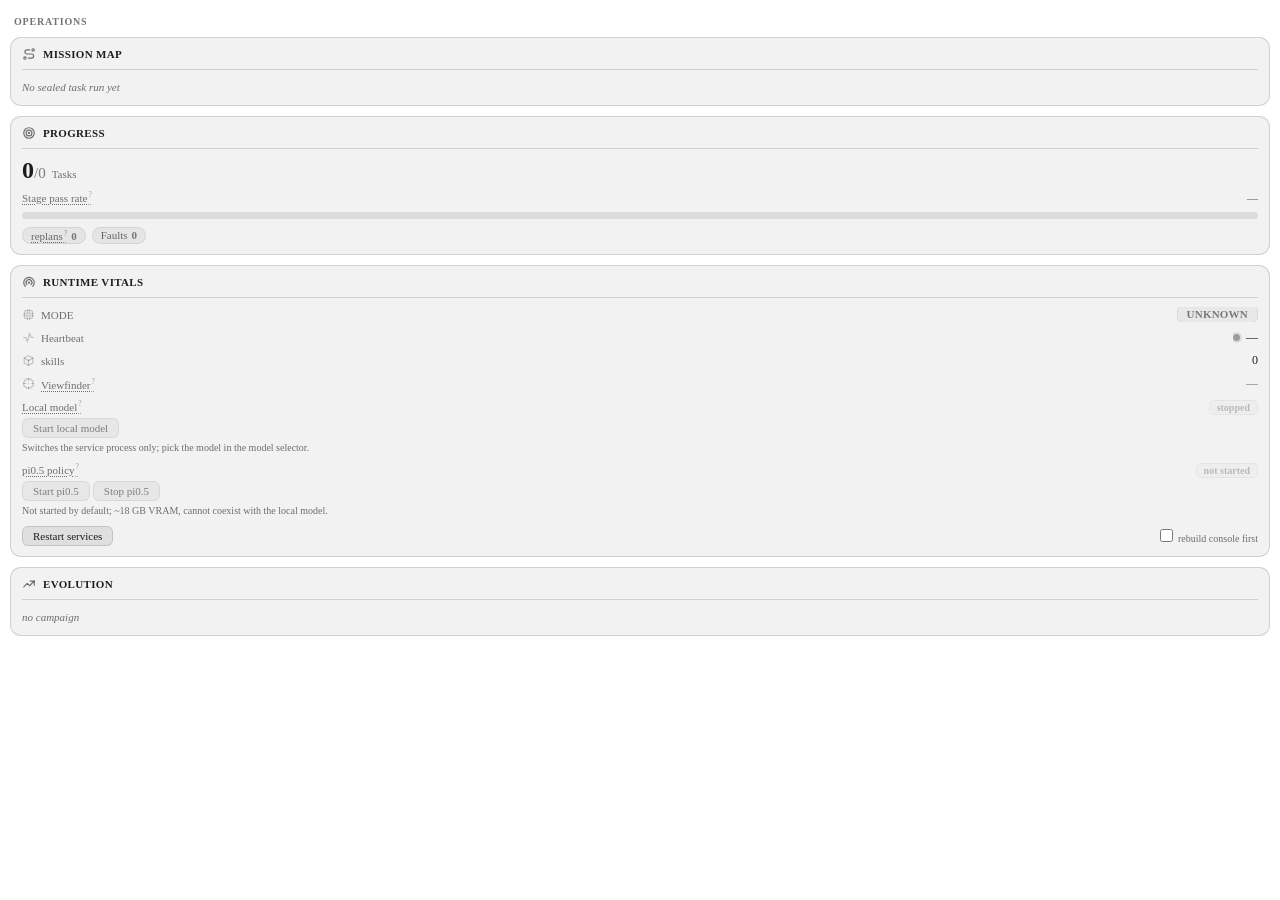
Test: OperatorRail smoke › restart needs two clicks in the widget and passes the build flag
The image size is (1280, 900).
Click the button "Restart services" at [68, 536], box [22, 526, 113, 546]
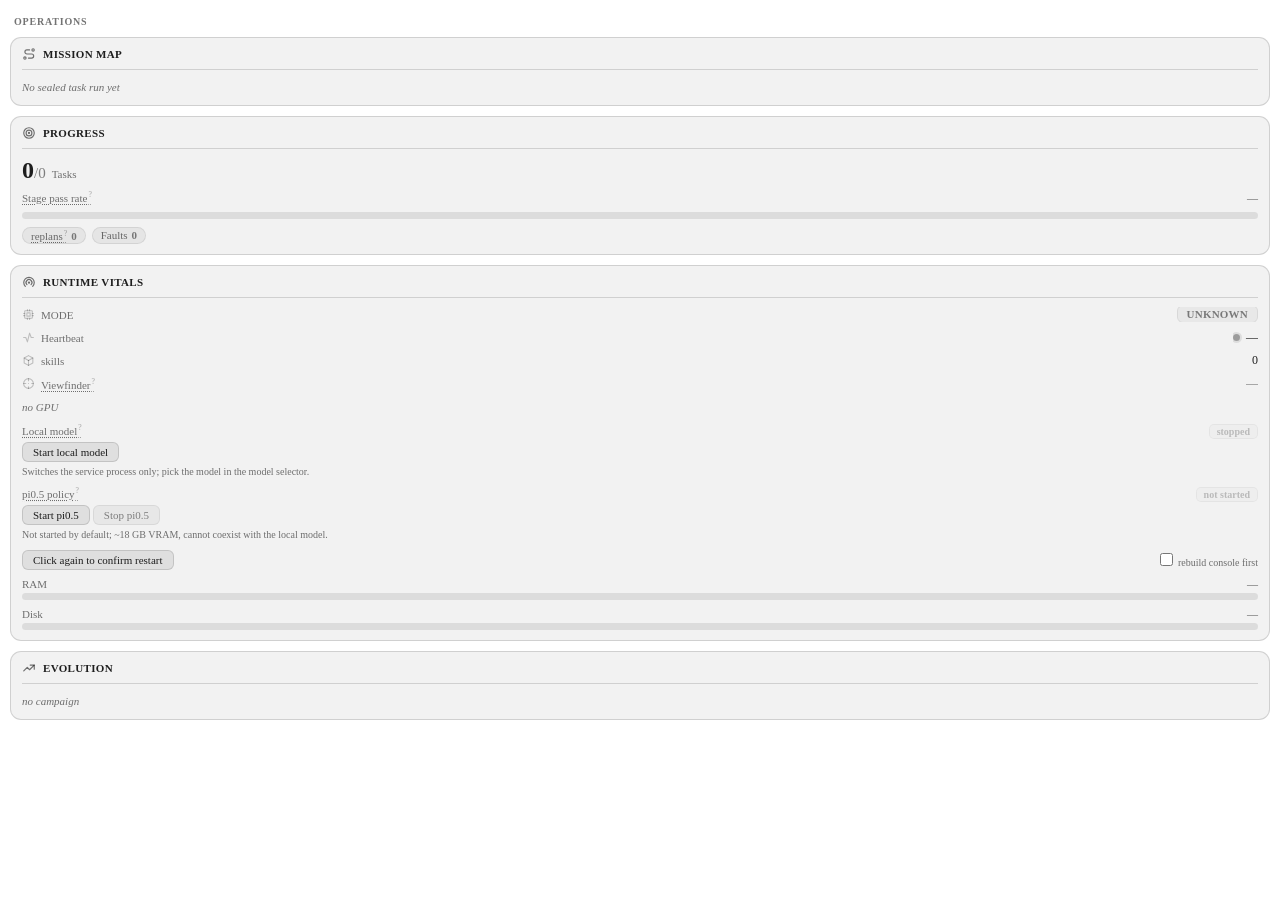
Expected: the button "Click again to confirm restart" is shown, [22, 550, 174, 570]
Click the checkbox at [1166, 559], box [1160, 553, 1172, 566]
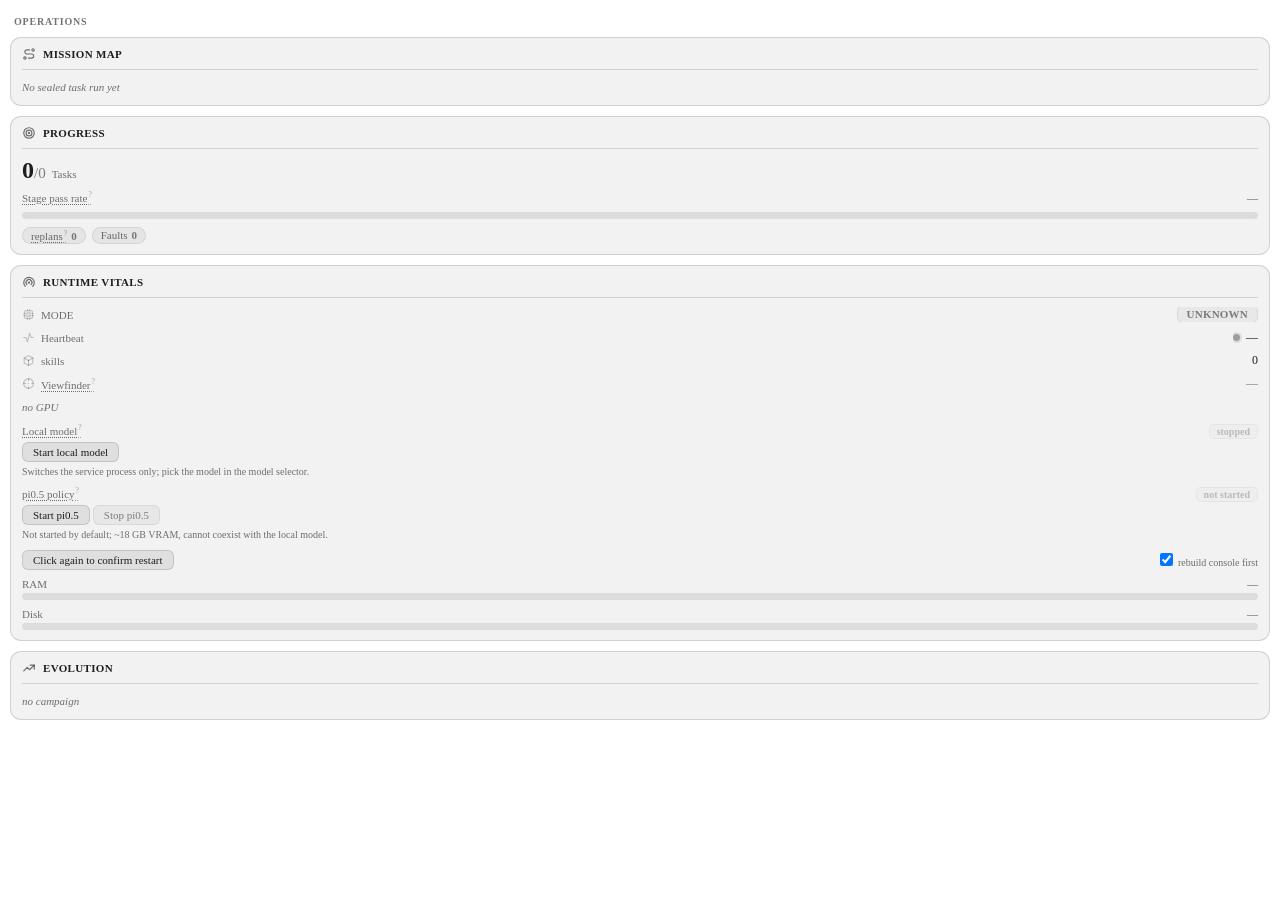
Click the button "Click again to confirm restart" at [98, 560], box [22, 550, 174, 570]
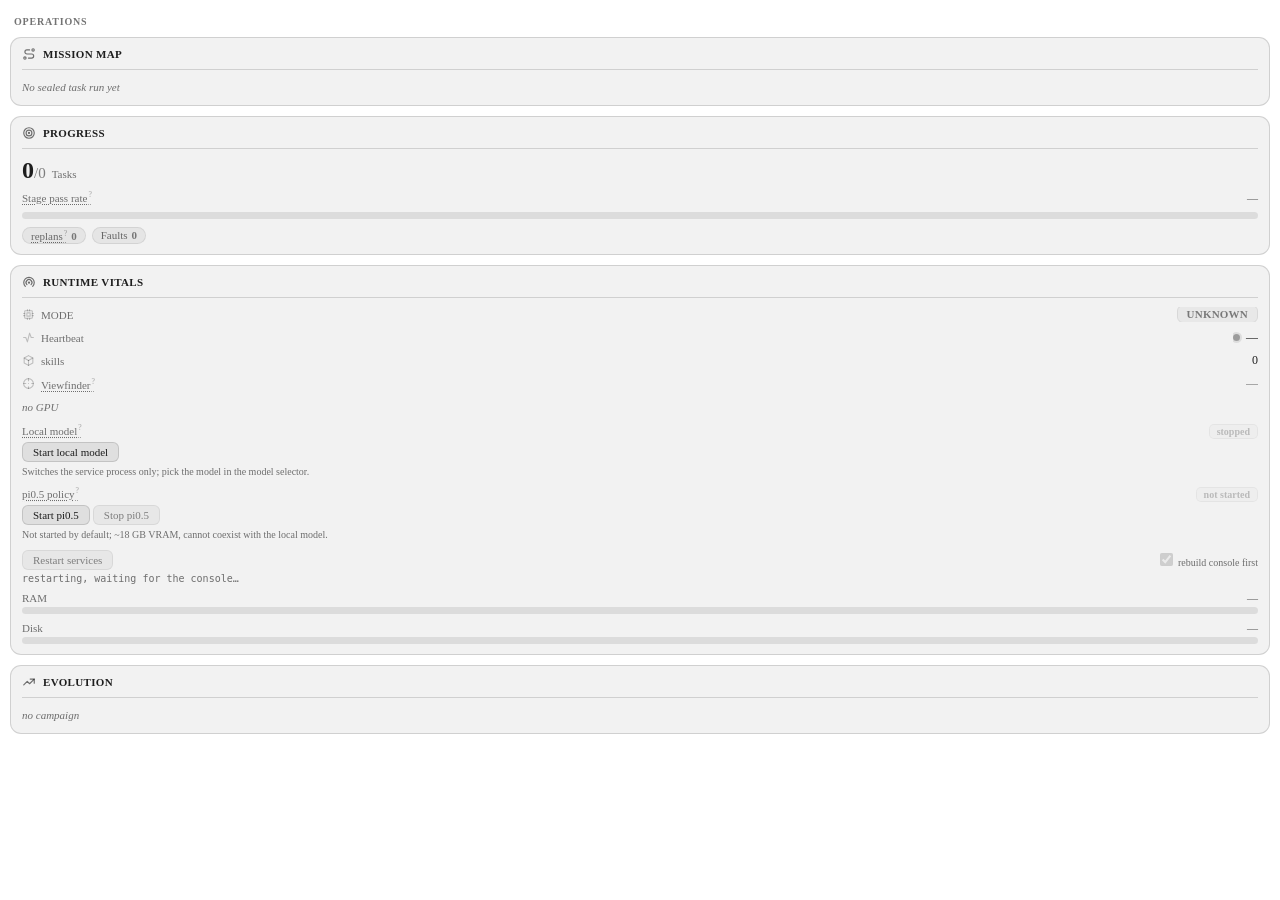
Expected: the text "restarting, waiting for the console…" is shown, [22, 573, 239, 584]
Expected: the button "Restart services" is disabled, [22, 550, 113, 570]
